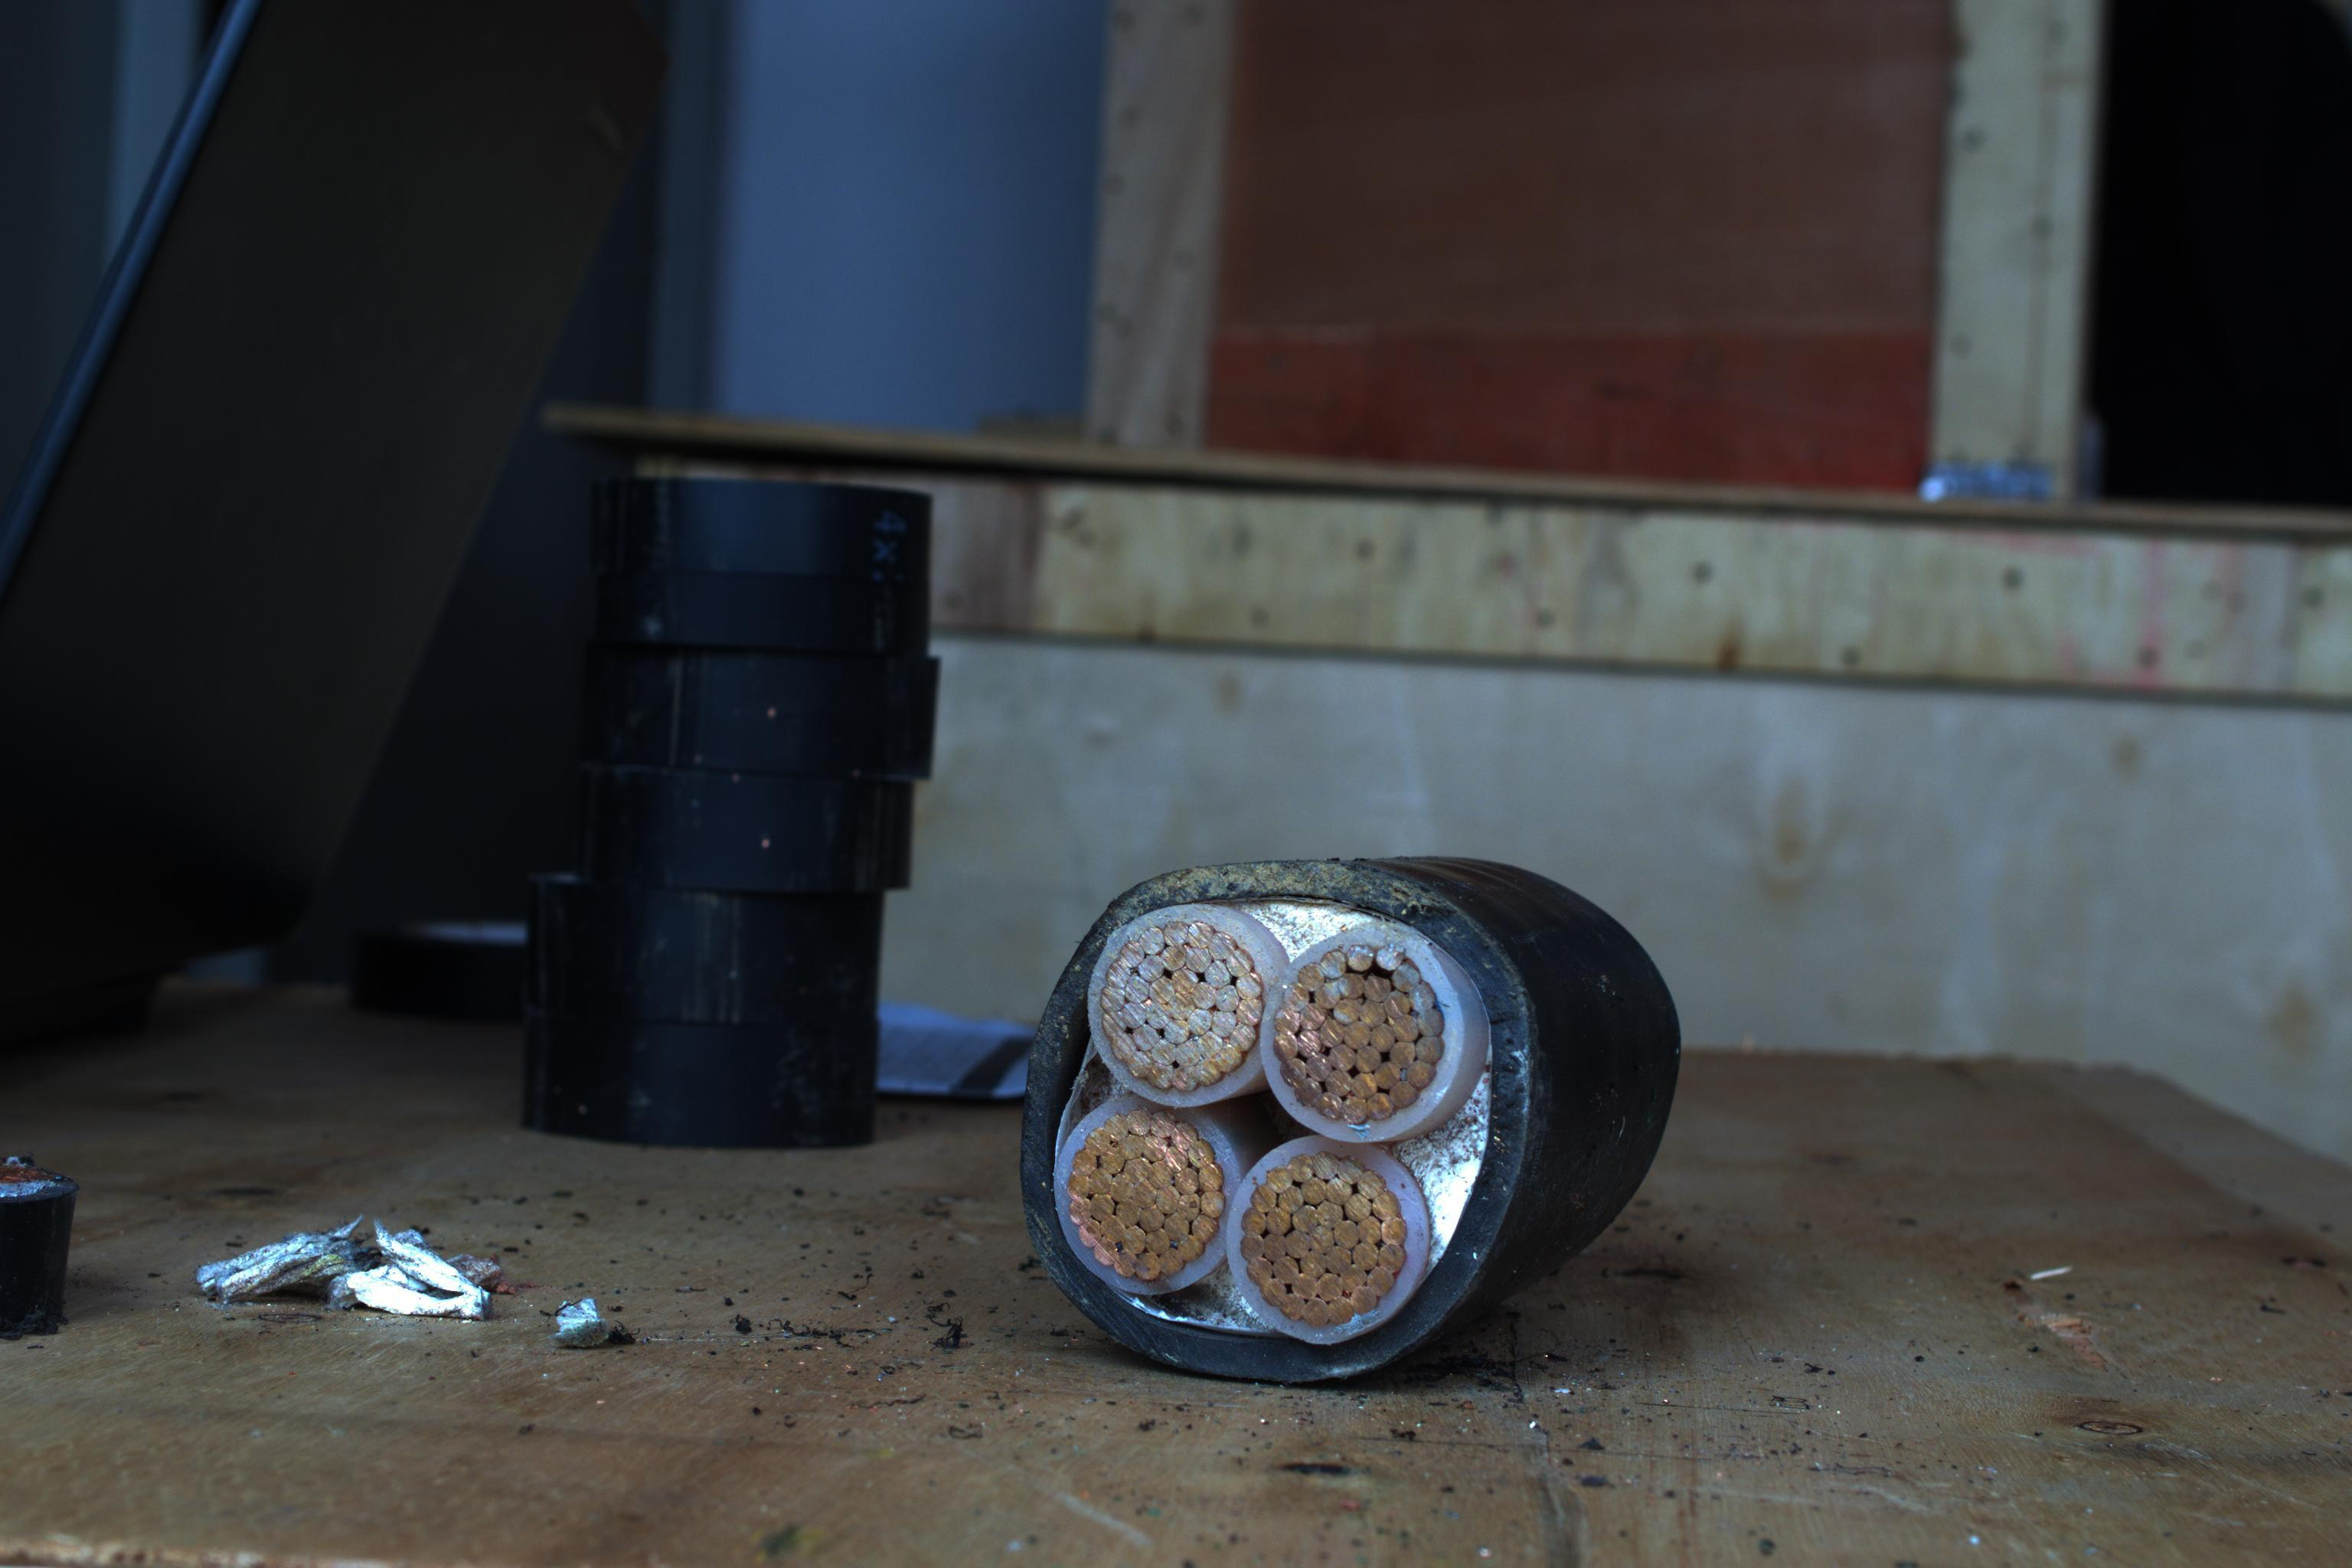YJV_0.6_1kV_4x240: (1017, 861, 1559, 1384)
